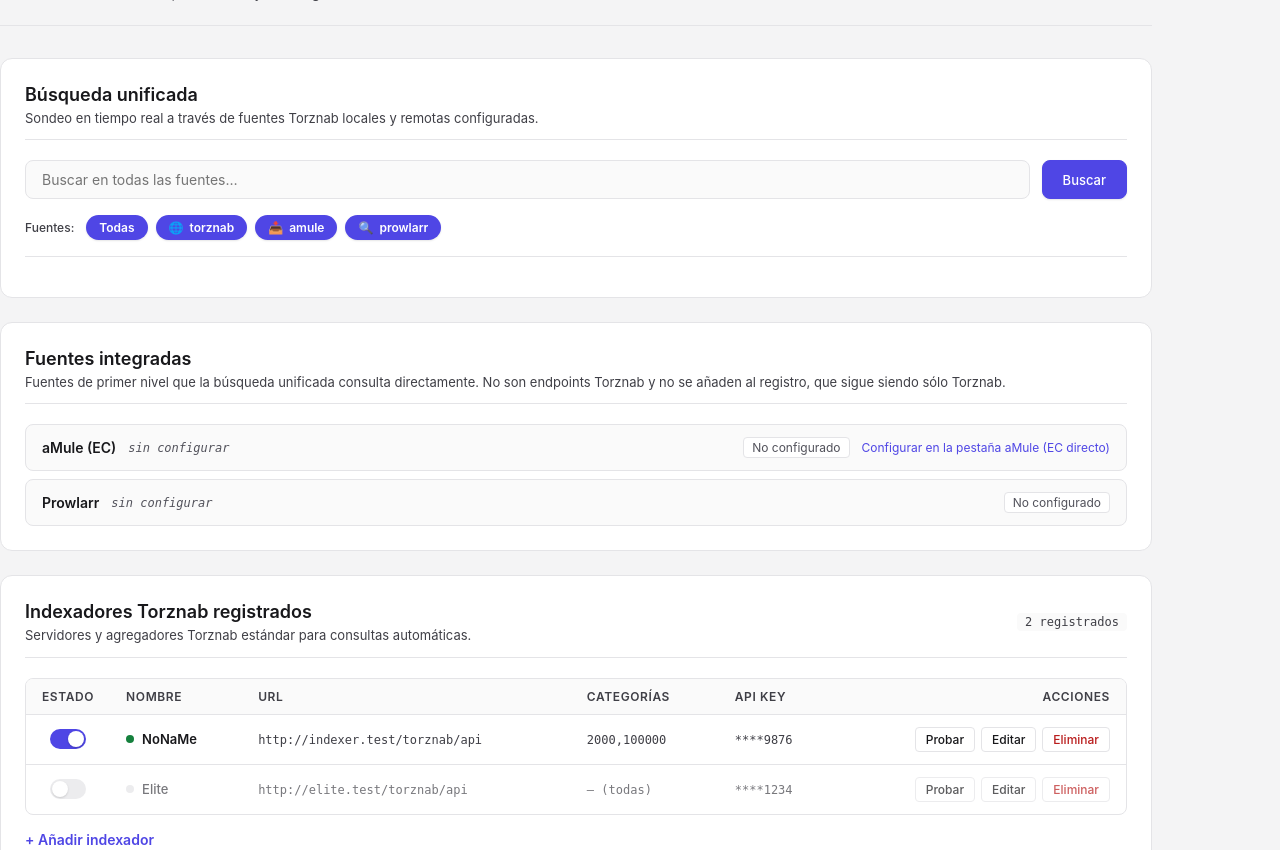
Test case: indexers section — the registry › «Probar» shows the caps on success and the detail on failure
The width and height of the screenshot is (1280, 850).
Click the button with aria-label "Probar NoNaMe". click: (945, 739)
box: [915,727,975,752]
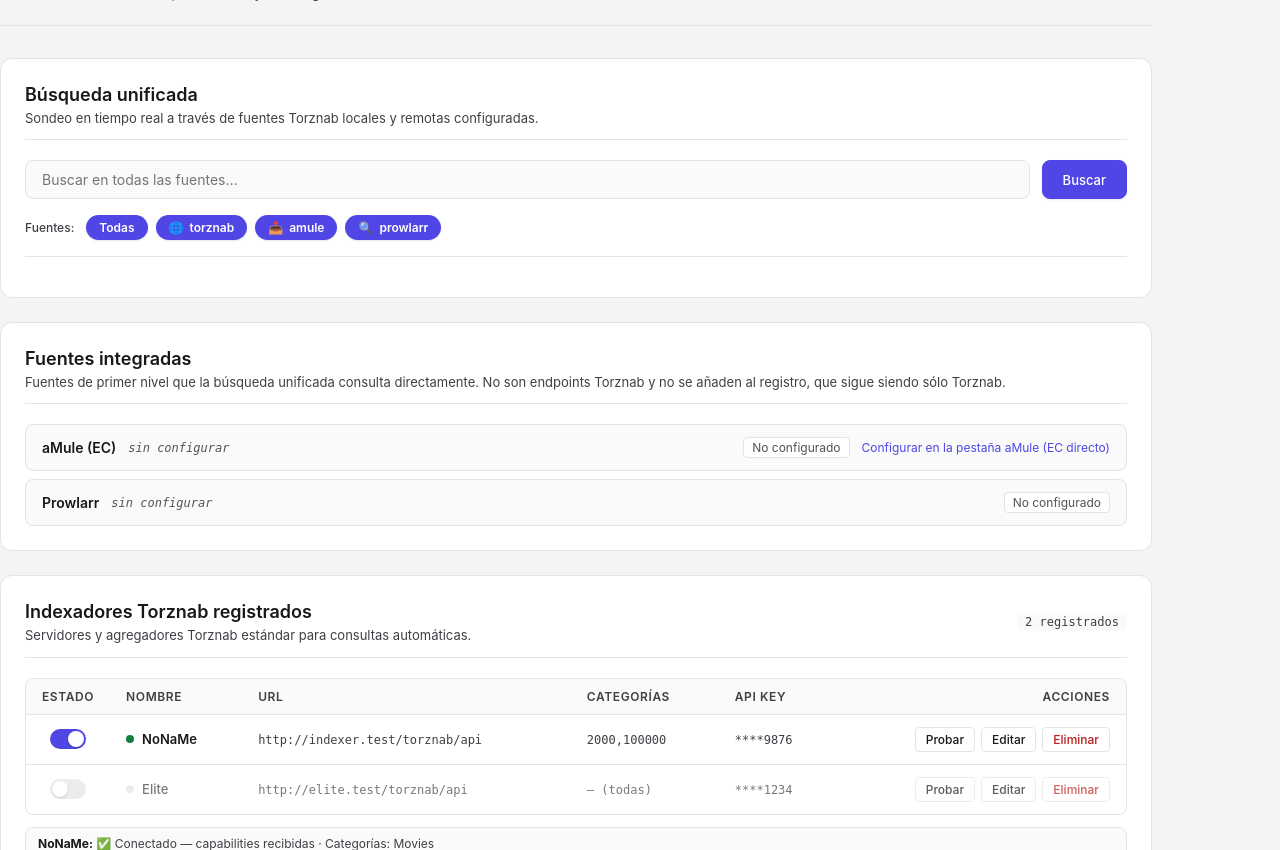
Click the button with aria-label "Probar Elite". click: (945, 789)
box: [915,777,975,802]
(page scrolled)
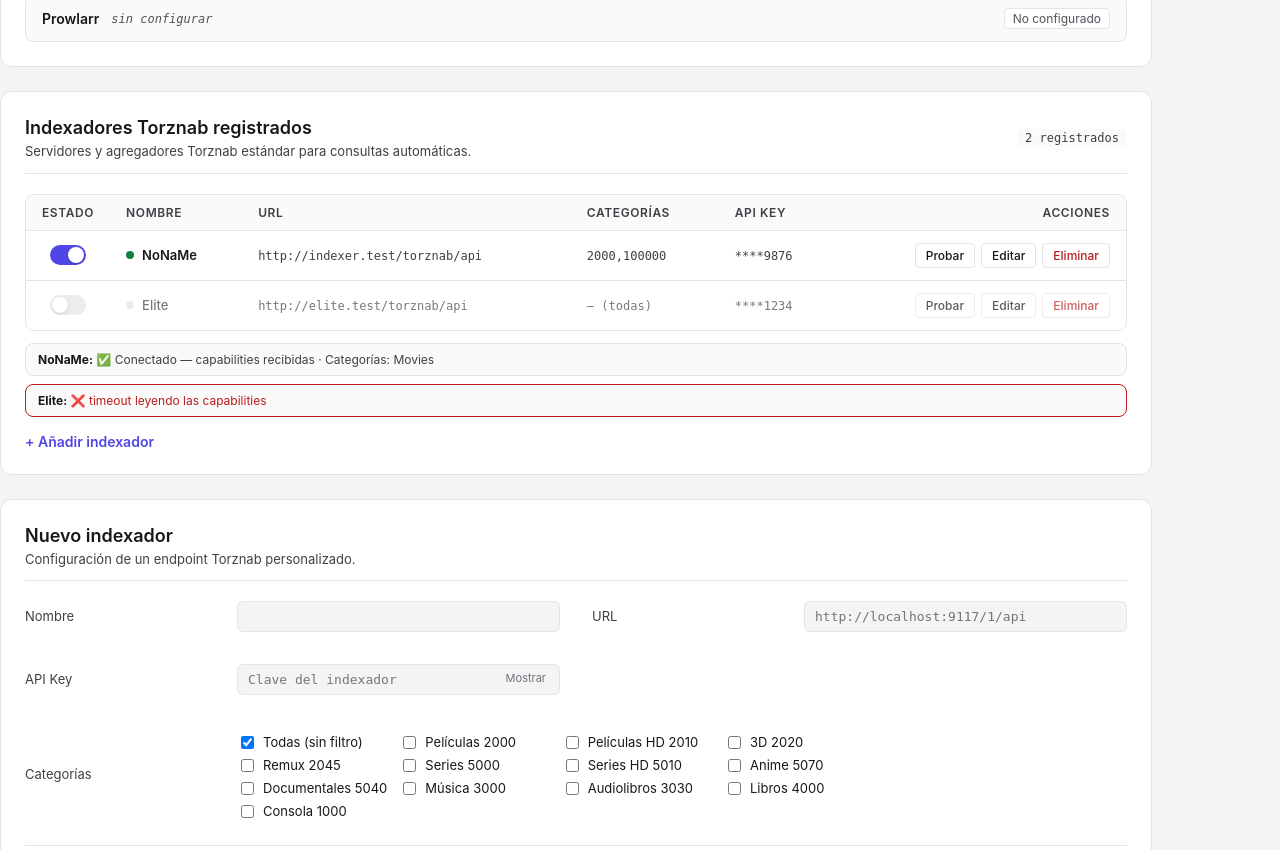
Expected: the message "Elite: ❌ timeout leyendo las capabilities" is shown, [25,384,1127,417]
